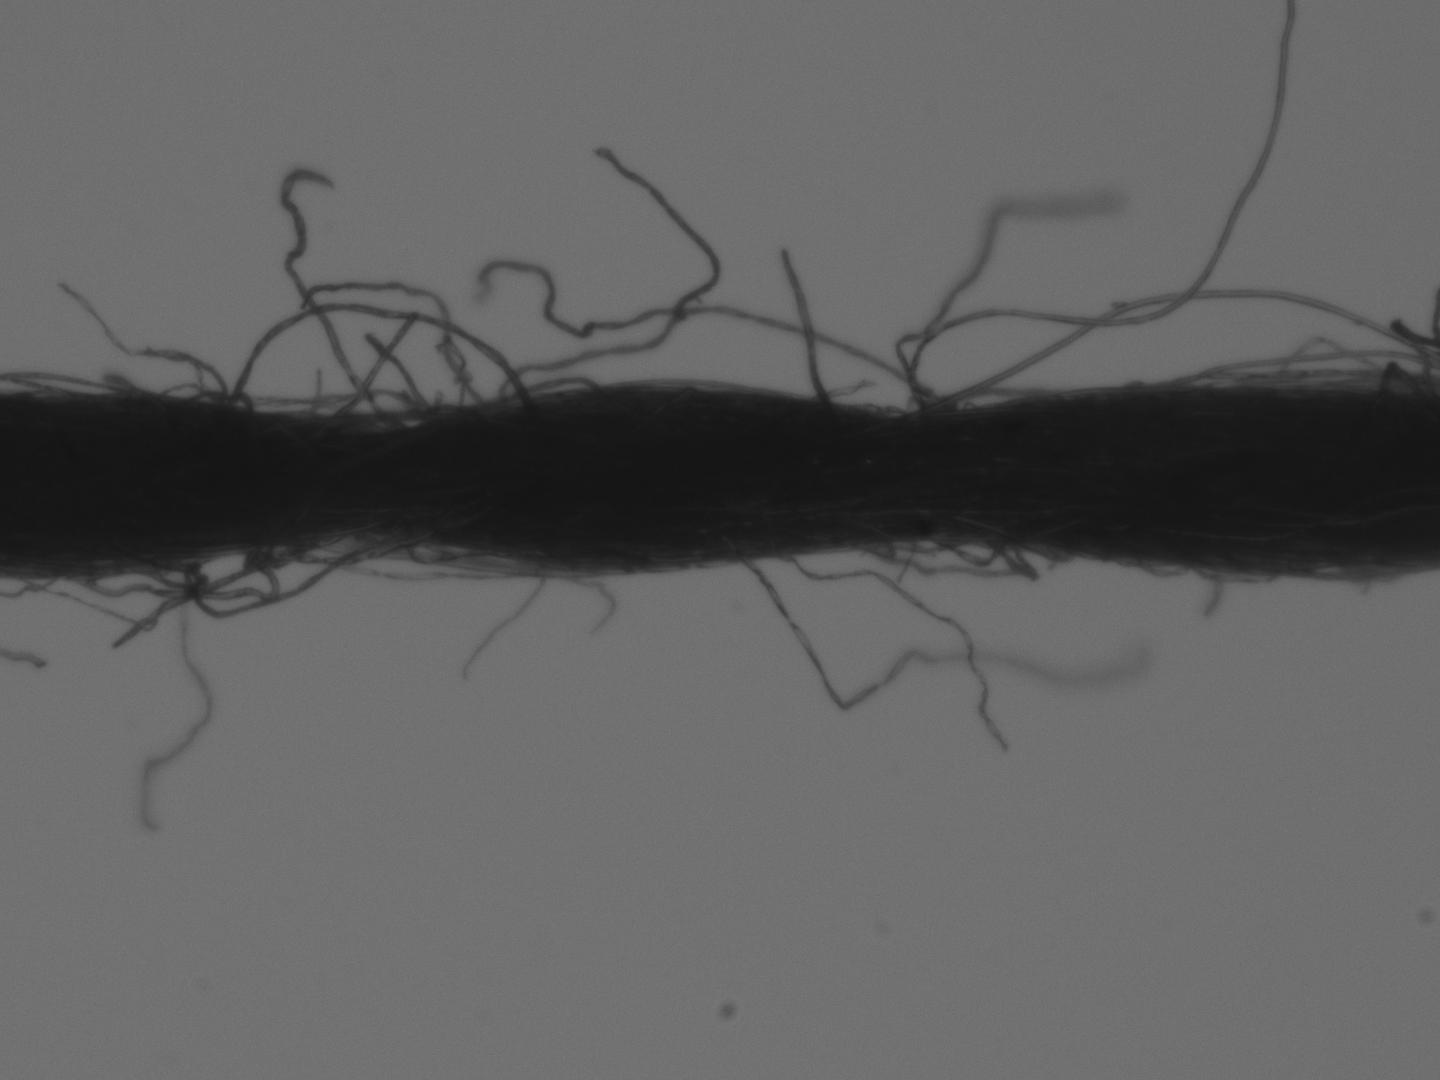loop_fiber: (934, 279, 1422, 413), (219, 298, 537, 430), (62, 535, 287, 605), (845, 531, 1044, 584), (128, 538, 280, 605), (3, 364, 173, 402), (287, 526, 434, 568), (1125, 556, 1288, 591), (935, 386, 1026, 414), (1372, 357, 1426, 402), (505, 379, 594, 405), (185, 382, 243, 411)
protruding_fiber: (276, 162, 378, 417), (779, 243, 842, 406)
